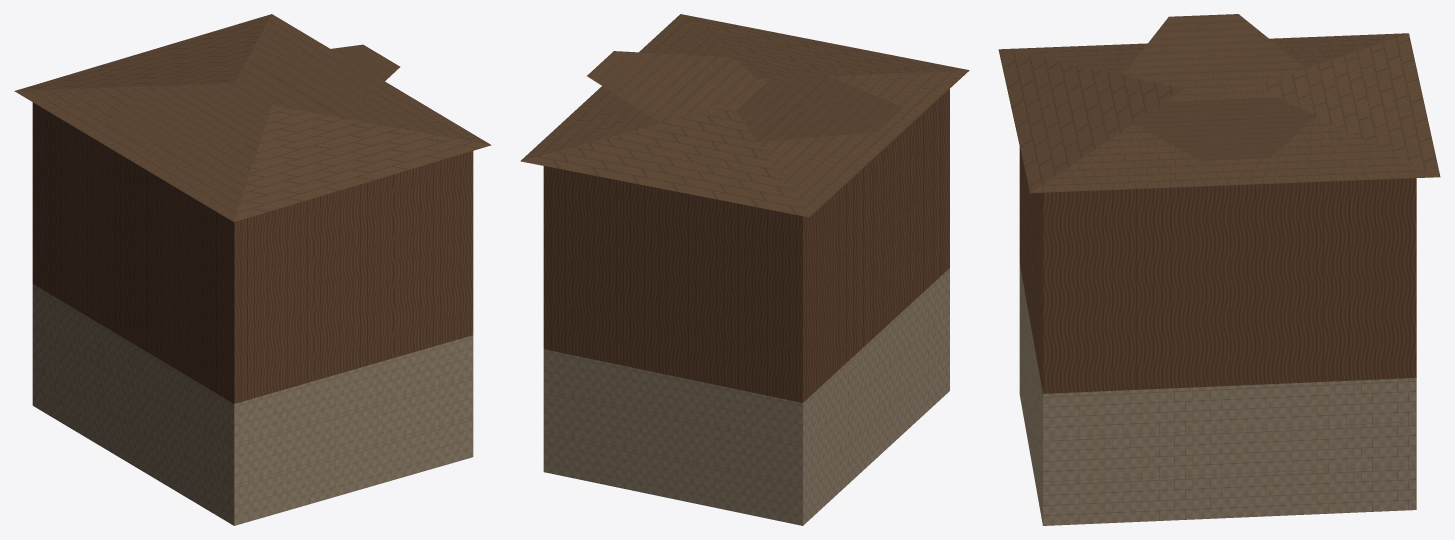
Rendered from bld_c31_47_251.gltf.
The picture shows the model from 3 angles, left to right: view 1: azimuth 30°, elevation 25°; view 2: azimuth 150°, elevation 25°; view 3: azimuth 270°, elevation 25°; orthographic projection. The views are drawn at different scales.
Parts seen in each view (by area): view 1: bld_c31_47_251; view 2: bld_c31_47_251; view 3: bld_c31_47_251.
Part boxes in pixels (x1,y1,x2,y2): bld_c31_47_251: (14,14,491,525); bld_c31_47_251: (520,14,969,525); bld_c31_47_251: (998,14,1440,525).
Bounding box in the file's own units: 13.25 × 14.1 × 15.47.
Materials: 3 (3 with a texture image).
